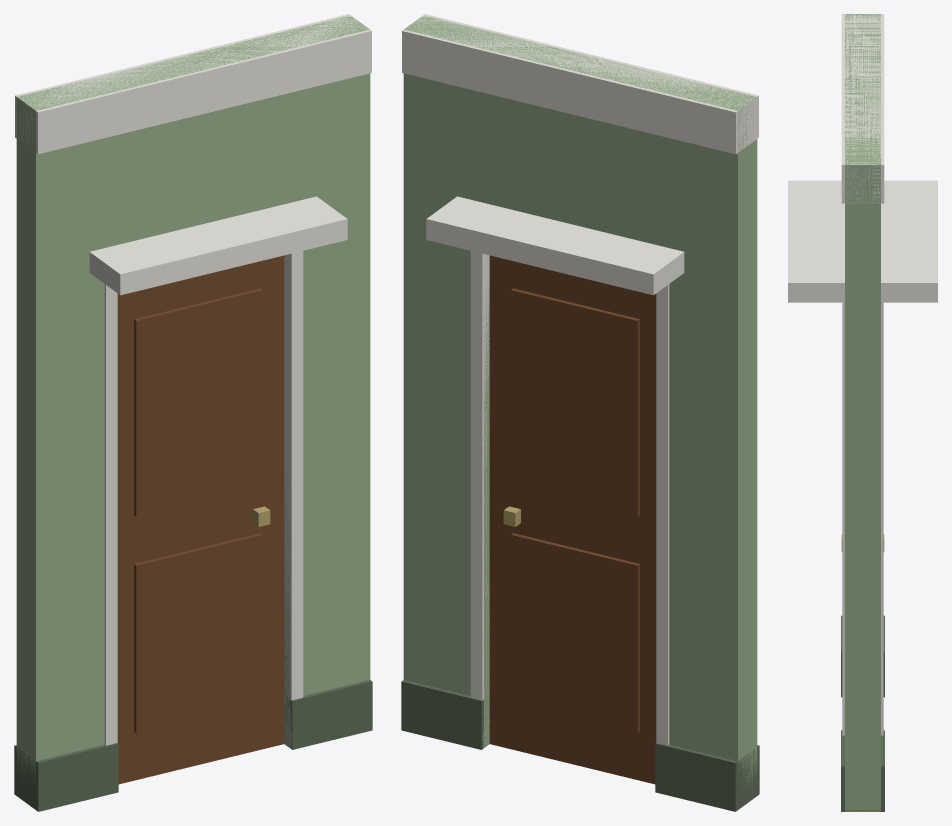
File: mod-reboco-verde-porta.gltf
The picture shows the model from 3 angles, left to right: view 1: azimuth 30°, elevation 25°; view 2: azimuth 150°, elevation 25°; view 3: azimuth 270°, elevation 25°; orthographic projection. The views are drawn at different scales.
Visible parts, largest first — view 1: mod-reboco-verde-porta; view 2: mod-reboco-verde-porta; view 3: mod-reboco-verde-porta.
Part boxes in pixels (x1=…): mod-reboco-verde-porta: x1=14, y1=14, x2=372, y2=811; mod-reboco-verde-porta: x1=401, y1=14, x2=759, y2=811; mod-reboco-verde-porta: x1=788, y1=14, x2=937, y2=811.
Bounding box in the file's own units: 1 × 2 × 0.42.
